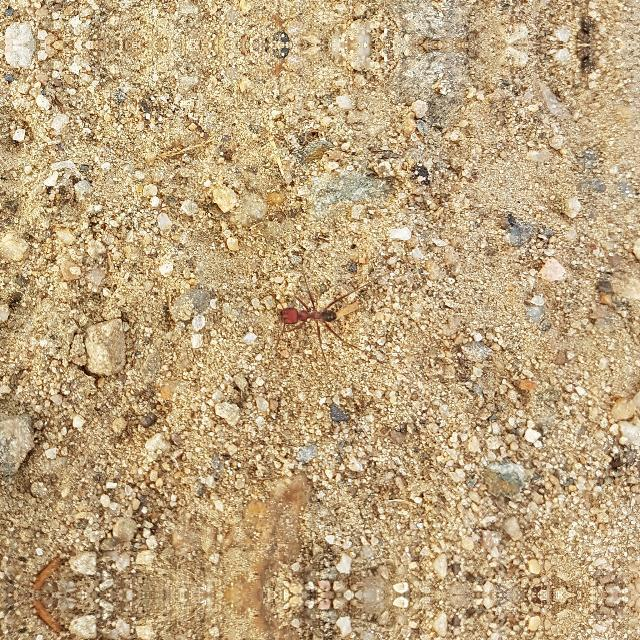Cataglyphis: (272, 290, 348, 334), (278, 44, 292, 58), (278, 30, 292, 44), (504, 211, 516, 227)
